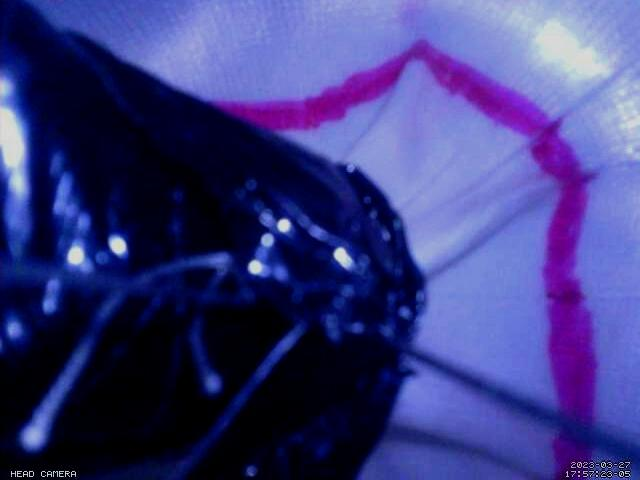red-circle: (207, 38, 598, 480)
